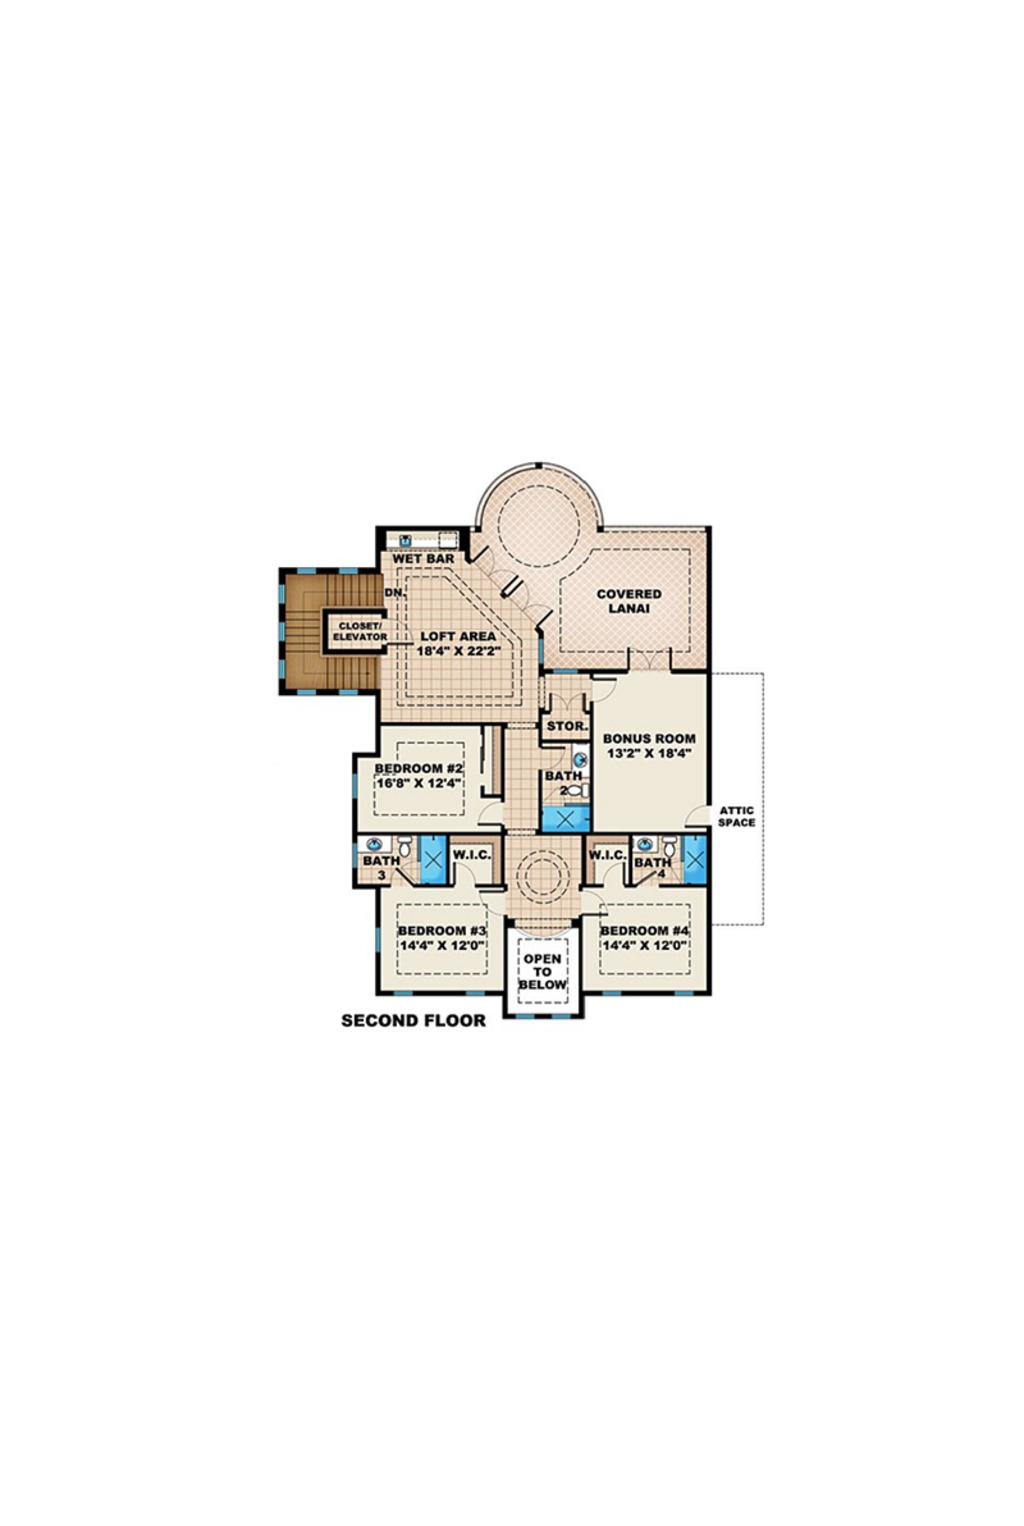door: (479, 546, 521, 593), (517, 580, 555, 629), (624, 644, 674, 672), (472, 794, 505, 826), (677, 800, 709, 825), (593, 676, 616, 704)
stairs: (280, 559, 379, 698)
